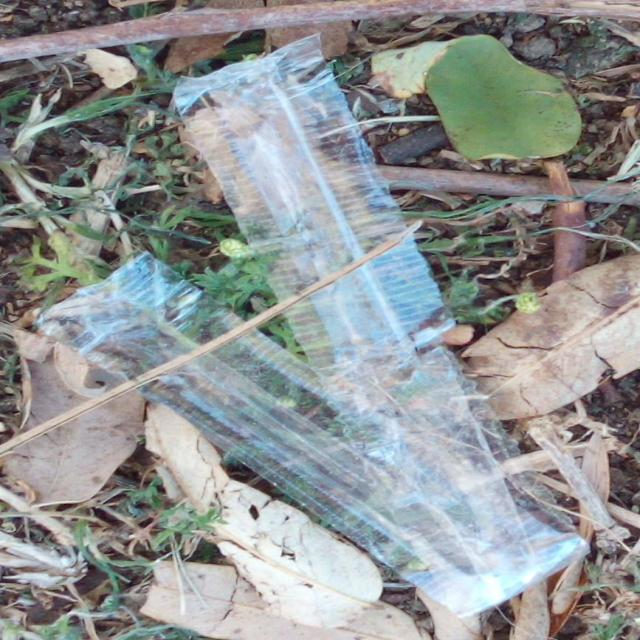litter: (32, 31, 586, 619)
